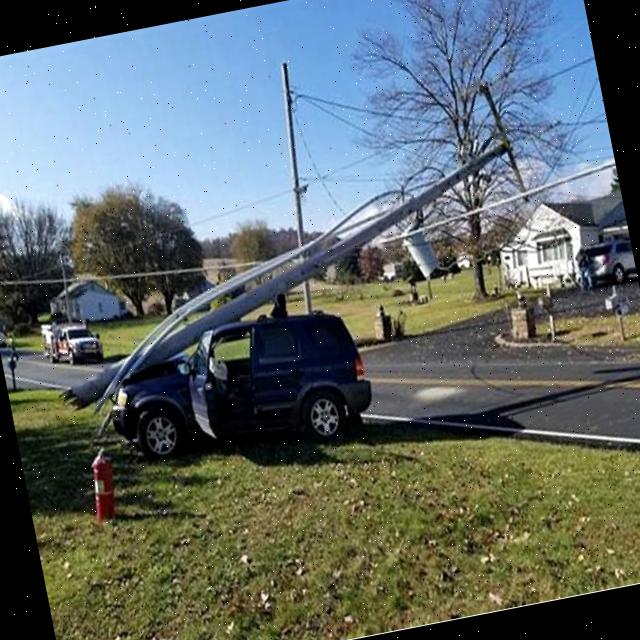Broken Pole: (50, 73, 533, 423)
